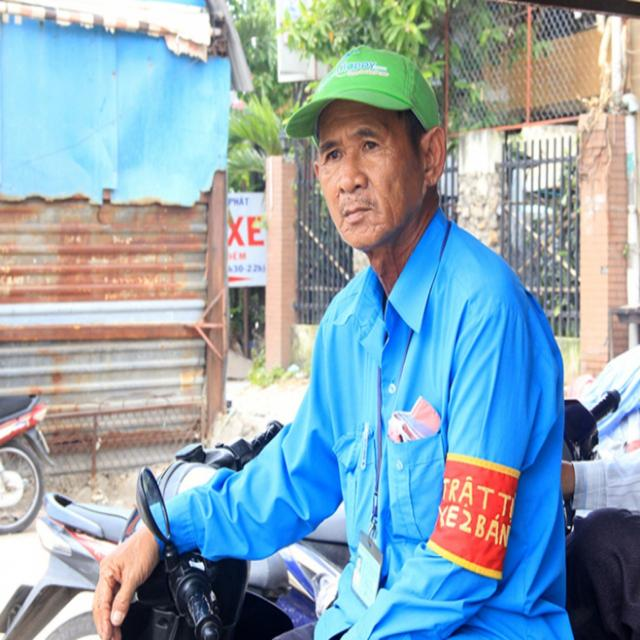no_helmet: (282, 42, 442, 150)
